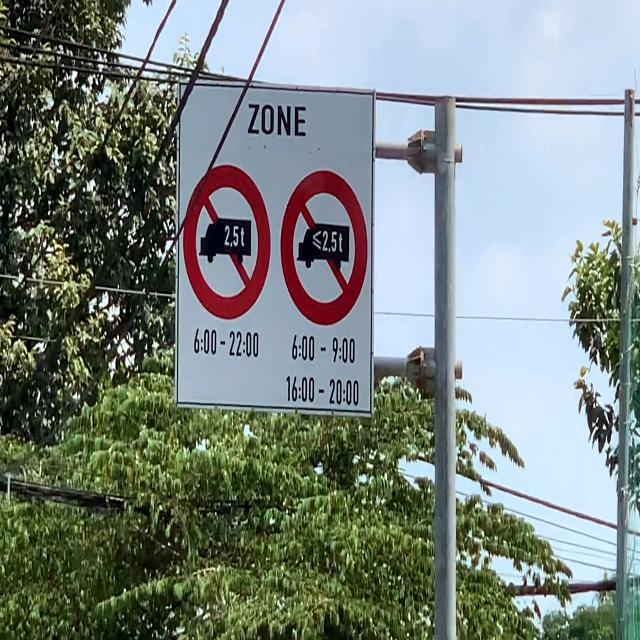Cam xe tai tren 2_5: (280, 169, 368, 327), (183, 164, 272, 320)
